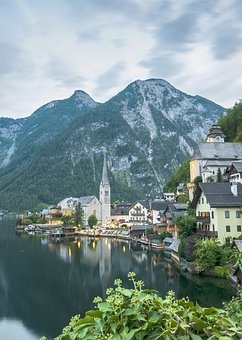lake: (6, 232, 220, 340)
mountain: (2, 81, 196, 194)
sky: (1, 1, 240, 97)
vilage: (52, 152, 239, 278)
